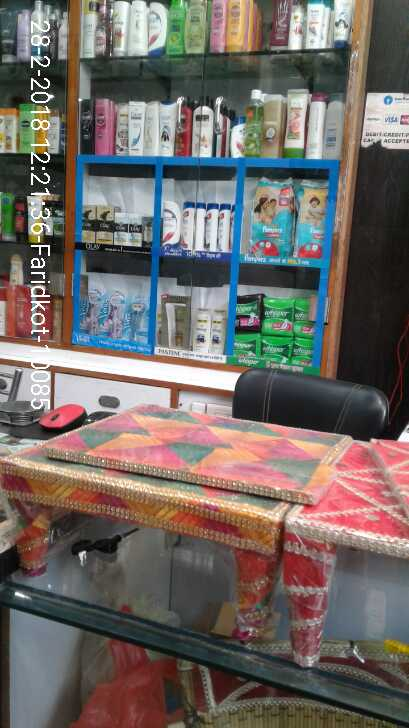venus: (103, 293, 129, 341), (130, 296, 149, 341), (83, 293, 103, 332)
